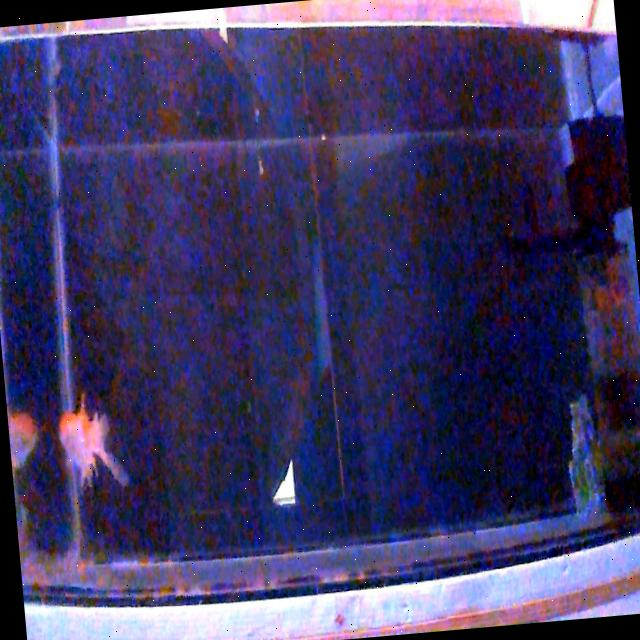fish: (53, 393, 129, 492), (7, 407, 42, 469)
